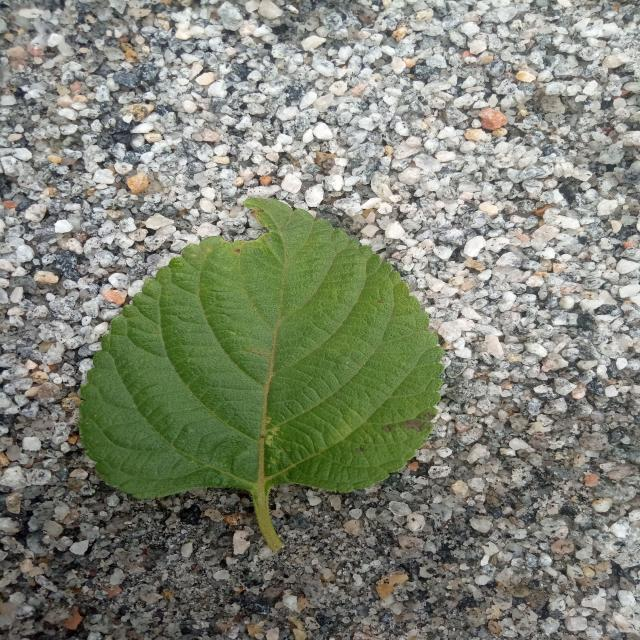Lantana: (80, 199, 443, 529)
